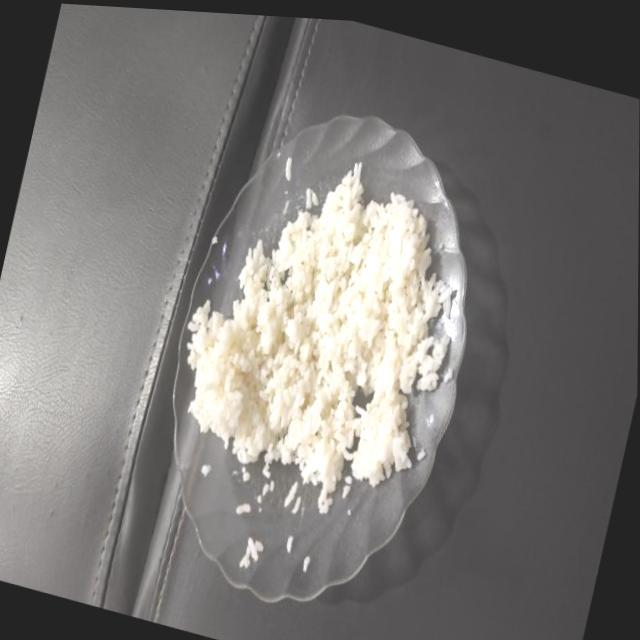nasi_putih: (187, 169, 452, 494)
